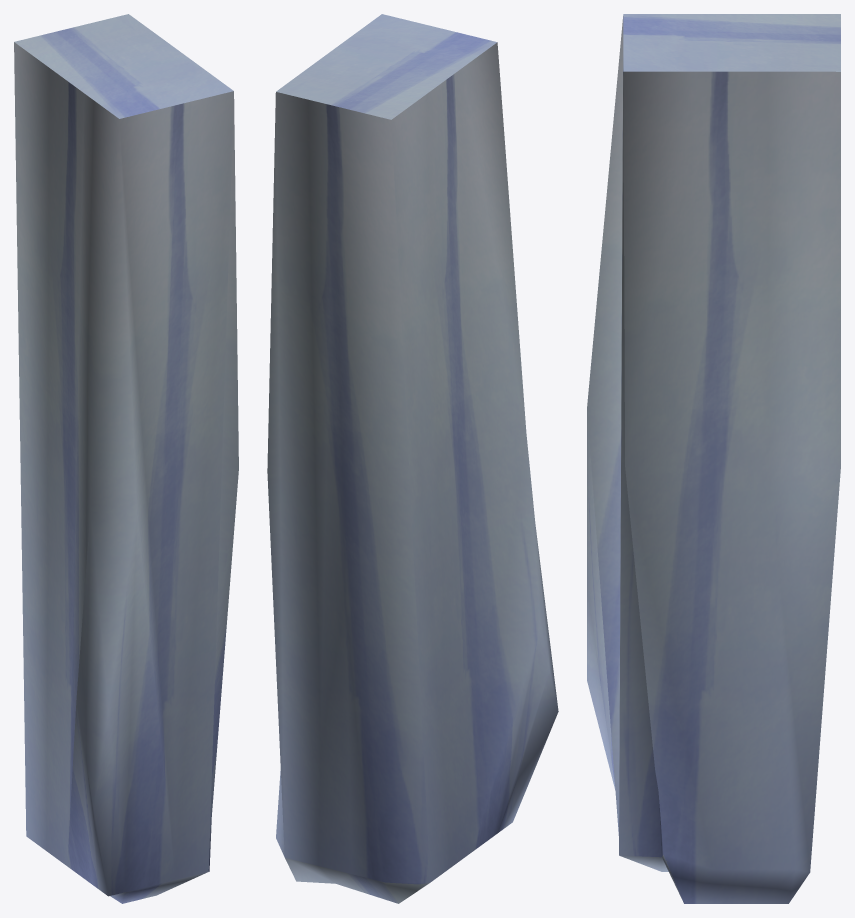
The model's file is rockeroo_small_bald_snatched_in_a_mini.glb.
3 renders of one model, left to right at view 1: azimuth 30°, elevation 25°; view 2: azimuth 150°, elevation 25°; view 3: azimuth 270°, elevation 25°, orthographic. The views are drawn at different scales.
Parts seen in each view (by area): view 1: rockeroo_small_bald_snatched_in_a_mini; view 2: rockeroo_small_bald_snatched_in_a_mini; view 3: rockeroo_small_bald_snatched_in_a_mini.
Boxes of the visible parts, <box> form: rockeroo_small_bald_snatched_in_a_mini: <box>14,14,238,903</box>; rockeroo_small_bald_snatched_in_a_mini: <box>267,14,558,903</box>; rockeroo_small_bald_snatched_in_a_mini: <box>587,14,840,903</box>.
Bounding box in the file's own units: 2.13 × 9.22 × 2.53.
1 material, 1 textured.
